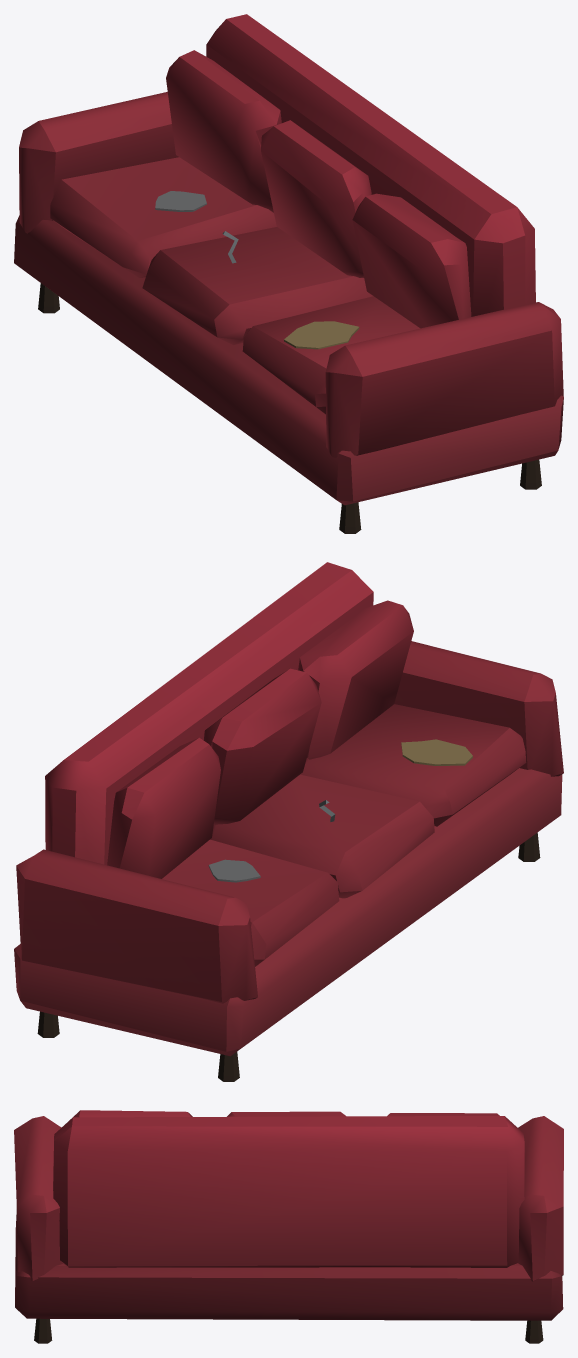
The model's file is 76_canape_velours.fbx.
3 views of the same model, one above another, from view 1: azimuth 30°, elevation 25°; view 2: azimuth 150°, elevation 25°; view 3: azimuth 270°, elevation 25° (orthographic). The views are drawn at different scales.
Visible parts, largest first — view 1: Canape; view 2: Canape; view 3: Canape.
Part boxes in pixels (left/top/right/bottom): Canape: left=14, top=14, right=563, bottom=533; Canape: left=14, top=562, right=563, bottom=1081; Canape: left=14, top=1110, right=563, bottom=1343.
Size of the model in its own units: 0.672 by 0.728 by 1.68.
Materials: 1 (1 with a texture image).
